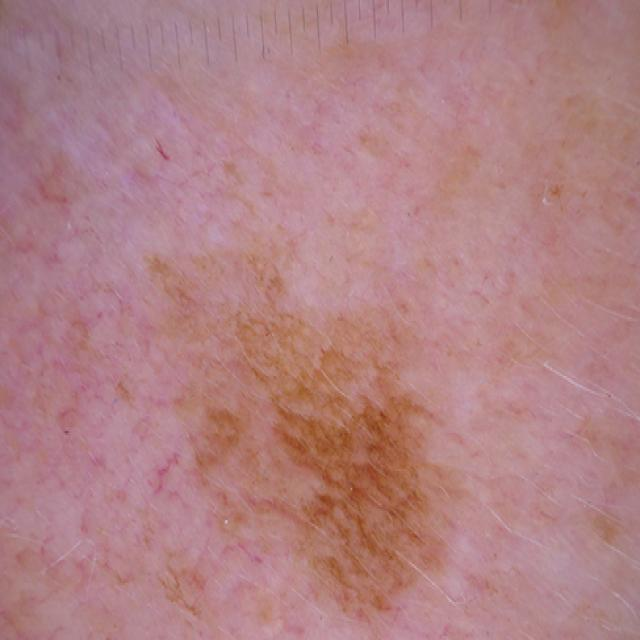Keratosis: (227, 283, 485, 640)
